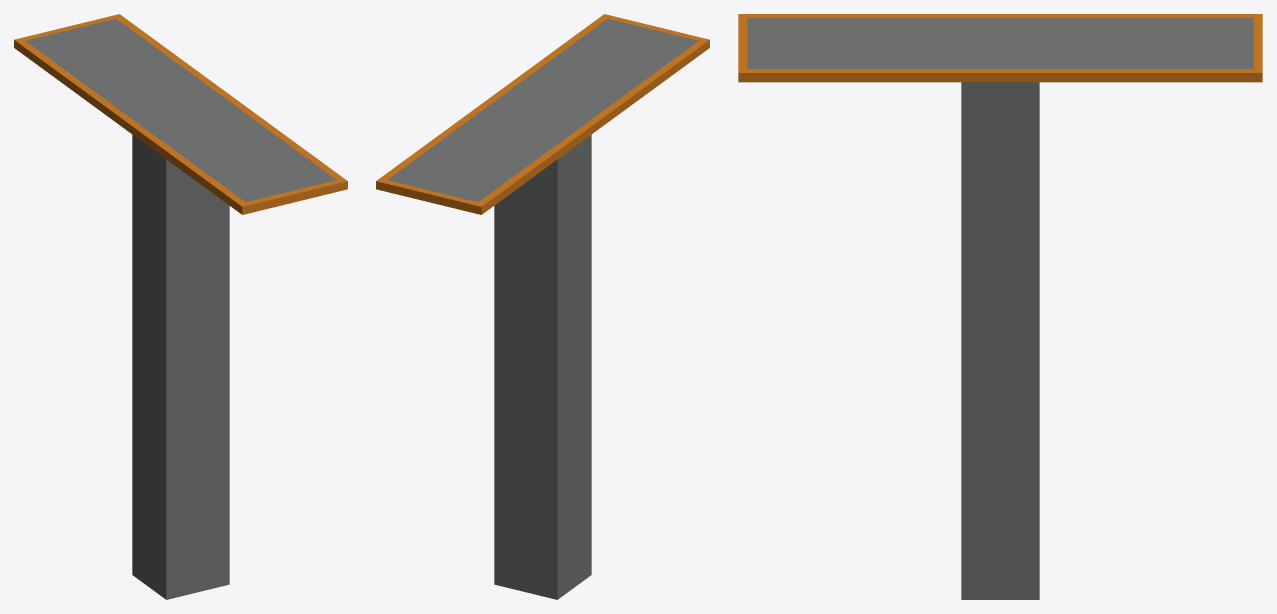
File: table.glb
3 views of the same model, side by side, from view 1: azimuth 30°, elevation 25°; view 2: azimuth 150°, elevation 25°; view 3: azimuth 270°, elevation 25° (orthographic). The views are drawn at different scales.
Size of the model in its own units: 0.4 by 1.7 by 1.5.
